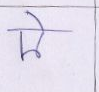e_matra: (26, 11, 47, 29)
